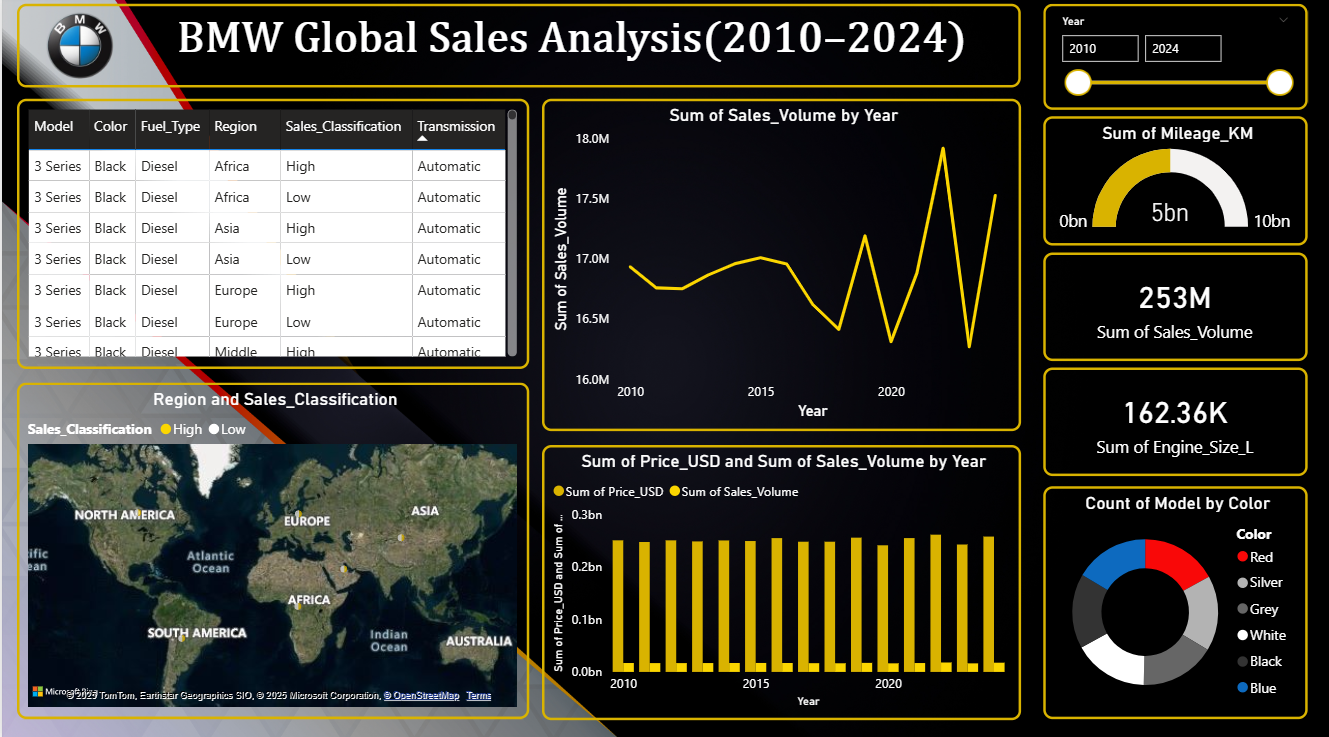

What the dashboard file says about the page in this screenshot:
{"tool":"powerbi","page":{"name":"Page 1","canvas":[1280,720],"ordinal":0},"visuals":[{"type":"slicer","fields":{"Values":["BMW sales data (2010-2024) (1).Year"]},"box":[1005,8.8,255,102.5],"z":0},{"type":"lineChart","fields":{"Category":["BMW sales data (2010-2024) (1).Year"],"Y":["Sum(BMW sales data (2010-2024) (1).Sales_Volume)"]},"box":[521.2,100.1,462.1,320.9],"z":1000},{"type":"map","fields":{"Category":["BMW sales data (2010-2024) (1).Region"],"Series":["BMW sales data (2010-2024) (1).Sales_Classification"]},"box":[14.2,374.5,494.2,324.7],"z":2000},{"type":"card","fields":{"Values":["Sum(BMW sales data (2010-2024) (1).Sales_Volume)"]},"box":[1005,248.8,255,105],"z":3000},{"type":"gauge","fields":{"Y":["Sum(BMW sales data (2010-2024) (1).Mileage_KM)"]},"box":[1005,117.5,255,125],"z":4000},{"type":"card","fields":{"Values":["Sum(BMW sales data (2010-2024) (1).Engine_Size_L)"]},"box":[1005,360,255,105],"z":5000},{"type":"tableEx","fields":{"Values":["BMW sales data (2010-2024) (1).Model","BMW sales data (2010-2024) (1).Color","BMW sales data (2010-2024) (1).Fuel_Type","BMW sales data (2010-2024) (1).Region","BMW sales data (2010-2024) (1).Sales_Classification","BMW sales data (2010-2024) (1).Transmission"]},"box":[14.2,99.7,494.2,260.6],"z":6000},{"type":"clusteredColumnChart","fields":{"Y":["Sum(BMW sales data (2010-2024) (1).Price_USD)","Sum(BMW sales data (2010-2024) (1).Sales_Volume)"],"Category":["BMW sales data (2010-2024) (1).Year"]},"box":[521.2,434.3,462.1,265.4],"z":7000},{"type":"textbox","box":[14.5,8.4,968.8,80.8],"z":8000},{"type":"donutChart","fields":{"Category":["BMW sales data (2010-2024) (1).Color"],"Y":["CountNonNull(BMW sales data (2010-2024) (1).Model)"]},"box":[1005,473.8,255,225],"z":9000},{"type":"image","box":[0,15,151.2,80],"z":10000}]}

Visuals, with their boxes in screenshot pixels (x1, y1, x2, y2), scaled from the page's 1280x720 canvas onto the 1329x737 screenshot:
slicer - BMW sales data (2010-2024) (1).Year: select_region(1043, 9, 1308, 114)
lineChart - BMW sales data (2010-2024) (1).Year x Sum(BMW sales data (2010-2024) (1).Sales_Volume): select_region(541, 102, 1021, 431)
map - BMW sales data (2010-2024) (1).Region x BMW sales data (2010-2024) (1).Sales_Classification: select_region(15, 383, 528, 716)
card - Sum(BMW sales data (2010-2024) (1).Sales_Volume): select_region(1043, 255, 1308, 362)
gauge - Sum(BMW sales data (2010-2024) (1).Mileage_KM): select_region(1043, 120, 1308, 248)
card - Sum(BMW sales data (2010-2024) (1).Engine_Size_L): select_region(1043, 368, 1308, 476)
tableEx - BMW sales data (2010-2024) (1).Model x BMW sales data (2010-2024) (1).Color: select_region(15, 102, 528, 369)
clusteredColumnChart - Sum(BMW sales data (2010-2024) (1).Price_USD) x Sum(BMW sales data (2010-2024) (1).Sales_Volume): select_region(541, 445, 1021, 716)
textbox: select_region(15, 9, 1021, 91)
donutChart - BMW sales data (2010-2024) (1).Color x CountNonNull(BMW sales data (2010-2024) (1).Model): select_region(1043, 485, 1308, 715)
image: select_region(0, 15, 157, 97)
